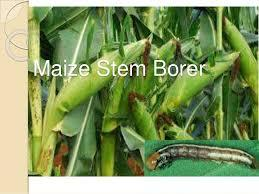insect: (142, 143, 259, 173)
